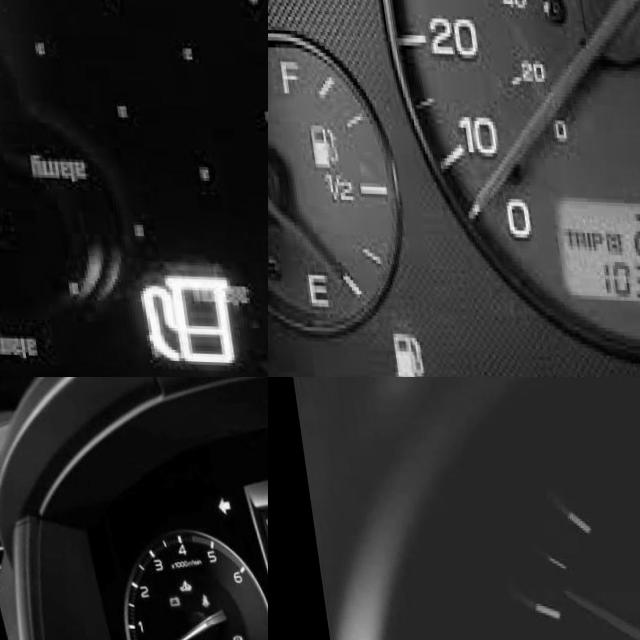Seat Belt: (190, 593, 199, 606)
